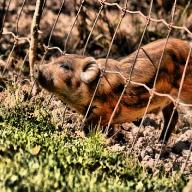boar: (17, 39, 192, 142)
